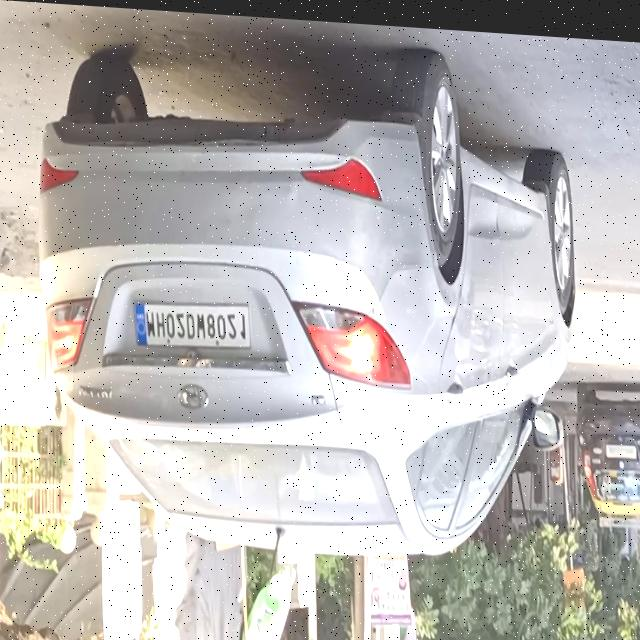plate: (133, 296, 251, 351)
